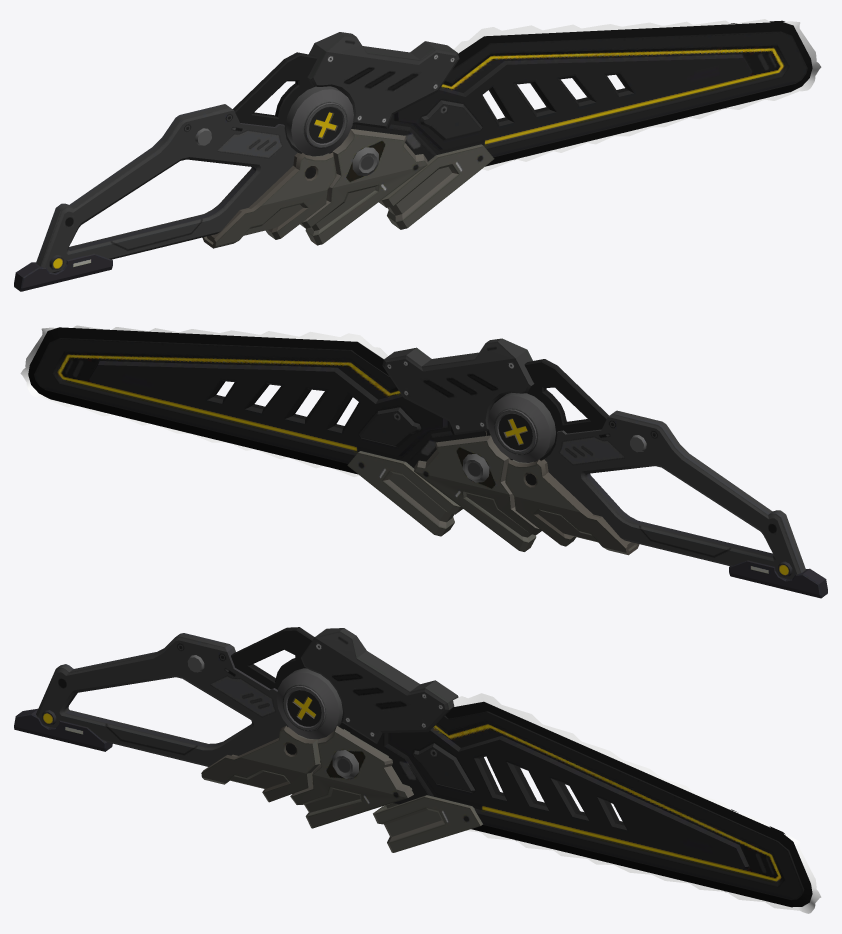
The model's file is E2SawMd100011.fbx.
The picture shows the model from 3 angles, top to bottom: view 1: azimuth 30°, elevation 25°; view 2: azimuth 150°, elevation 25°; view 3: azimuth 330°, elevation 25°; orthographic projection.
Visible parts, largest first — view 1: E2SawMd100011, E2SawMd100011002, zheng; view 2: E2SawMd100011, E2SawMd100011002, zheng; view 3: E2SawMd100011, E2SawMd100011002, zheng.
Boxes of the visible parts, x1,y1,x2,y2 form: E2SawMd100011: (14, 31, 807, 291); E2SawMd100011002: (453, 20, 812, 166); zheng: (453, 19, 821, 170); E2SawMd100011: (34, 338, 827, 598); E2SawMd100011002: (28, 327, 388, 474); zheng: (20, 325, 387, 477); E2SawMd100011: (14, 627, 804, 900); E2SawMd100011002: (445, 701, 812, 907); zheng: (453, 693, 821, 913).
Size of the model in its own units: 1.18 by 0.2873 by 0.0618.
3 materials, 3 textured.
